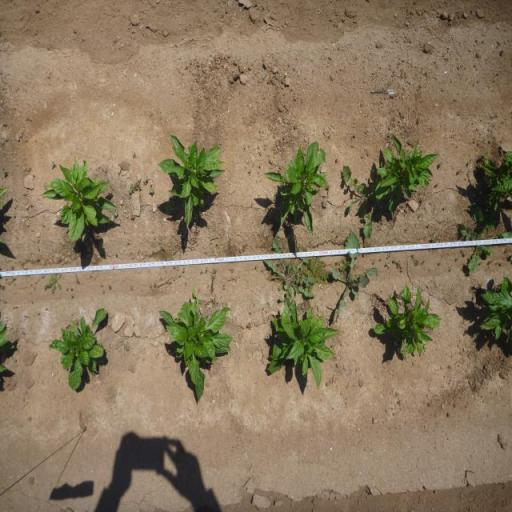plant: (159, 287, 234, 405), (158, 133, 227, 230), (265, 304, 336, 388), (373, 282, 443, 360), (47, 160, 113, 242), (269, 140, 325, 236), (48, 307, 108, 392), (375, 136, 437, 214), (478, 276, 512, 343), (480, 154, 512, 216)
weed: (330, 232, 378, 322), (263, 240, 309, 302), (342, 166, 377, 236), (460, 226, 512, 273), (307, 256, 328, 290), (44, 272, 62, 295), (130, 178, 142, 196), (390, 258, 404, 273), (484, 220, 494, 234), (410, 254, 420, 266), (340, 258, 350, 270), (74, 273, 81, 284), (431, 234, 437, 244), (143, 175, 148, 186), (148, 187, 155, 194), (246, 322, 252, 330), (2, 168, 8, 176), (461, 250, 468, 256), (384, 262, 391, 268), (112, 211, 119, 217), (173, 265, 179, 271), (0, 284, 6, 290), (51, 160, 56, 167), (172, 246, 176, 254), (44, 183, 48, 191), (125, 346, 130, 352), (487, 260, 493, 264), (387, 252, 391, 258), (439, 160, 443, 166), (131, 214, 135, 220), (230, 268, 234, 273), (132, 152, 136, 157), (108, 285, 112, 290), (468, 158, 472, 163), (248, 311, 252, 315), (12, 277, 16, 281), (458, 169, 462, 173), (182, 267, 185, 272), (457, 256, 460, 260), (261, 268, 264, 272), (214, 268, 216, 274), (166, 257, 169, 261), (154, 282, 156, 288), (71, 294, 74, 298), (372, 260, 374, 265), (449, 267, 451, 272), (206, 267, 208, 271), (170, 280, 172, 284), (160, 276, 162, 280), (162, 246, 164, 250), (213, 276, 216, 278), (70, 288, 73, 290), (179, 274, 181, 276), (174, 278, 175, 280)
